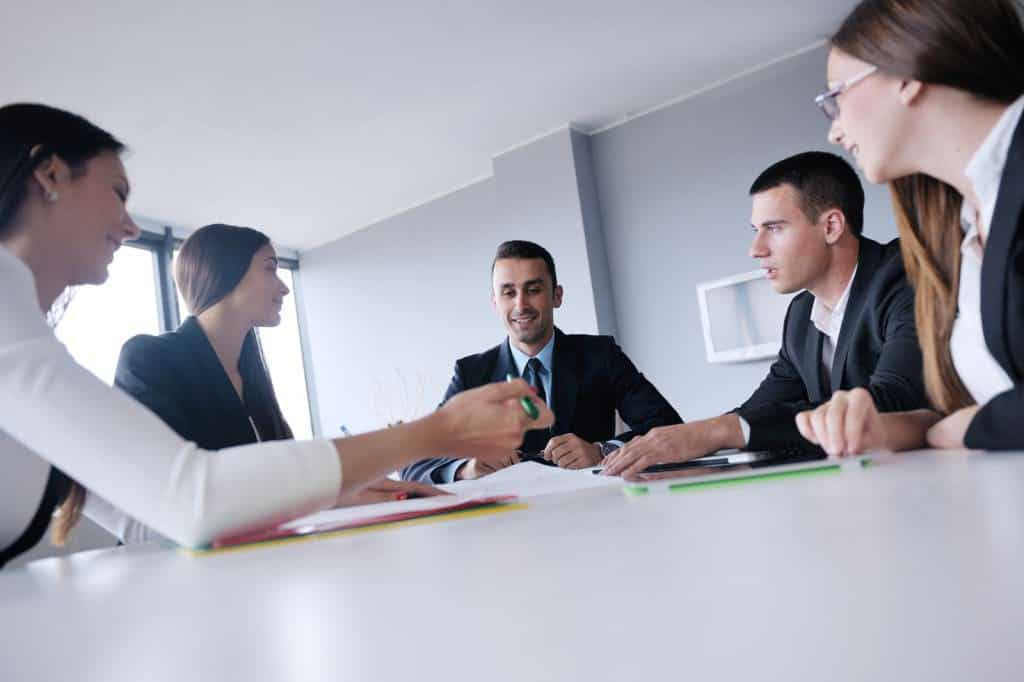Person: (2, 98, 556, 573), (597, 150, 924, 473), (792, 2, 1024, 454), (394, 241, 686, 469), (116, 223, 291, 452)
